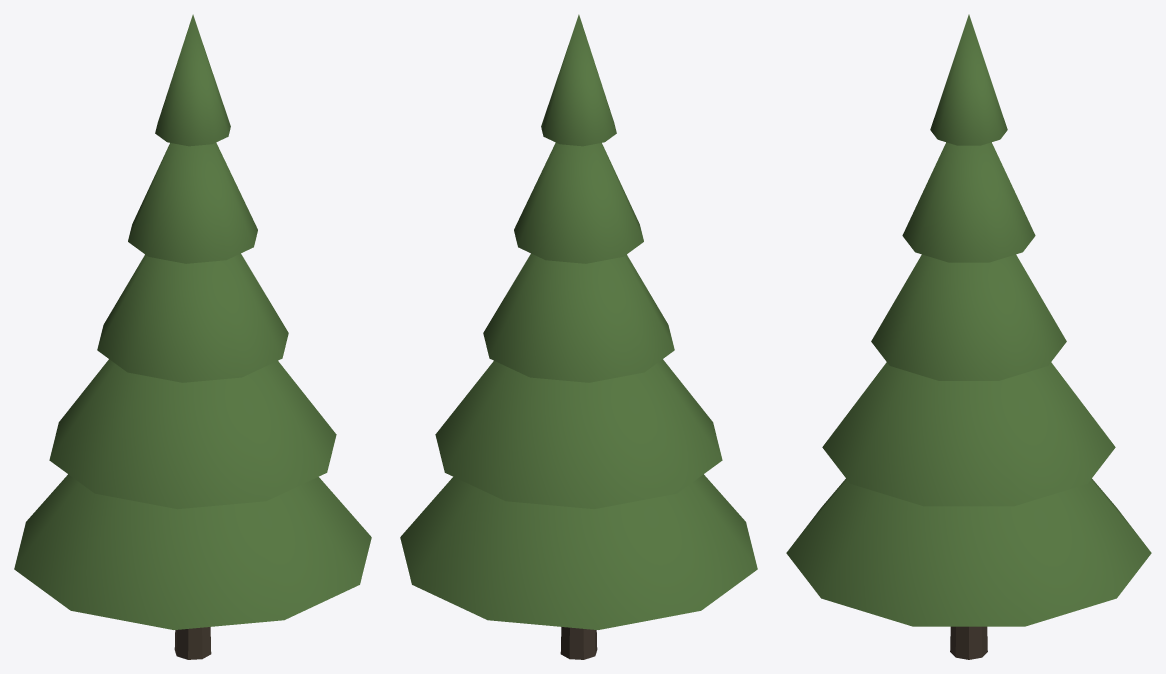
File: Tree_Conifer_B.fbx
3 views of the same model, side by side, from view 1: azimuth 30°, elevation 25°; view 2: azimuth 150°, elevation 25°; view 3: azimuth 270°, elevation 25° (orthographic).
Visible parts, largest first — view 1: Tree_Conifer_B; view 2: Tree_Conifer_B; view 3: Tree_Conifer_B.
Part boxes in pixels (x1=…): Tree_Conifer_B: x1=14, y1=14, x2=371, y2=659; Tree_Conifer_B: x1=400, y1=14, x2=757, y2=659; Tree_Conifer_B: x1=786, y1=14, x2=1151, y2=659.
Size of the model in its own units: 5.16 by 10.45 by 5.43.
